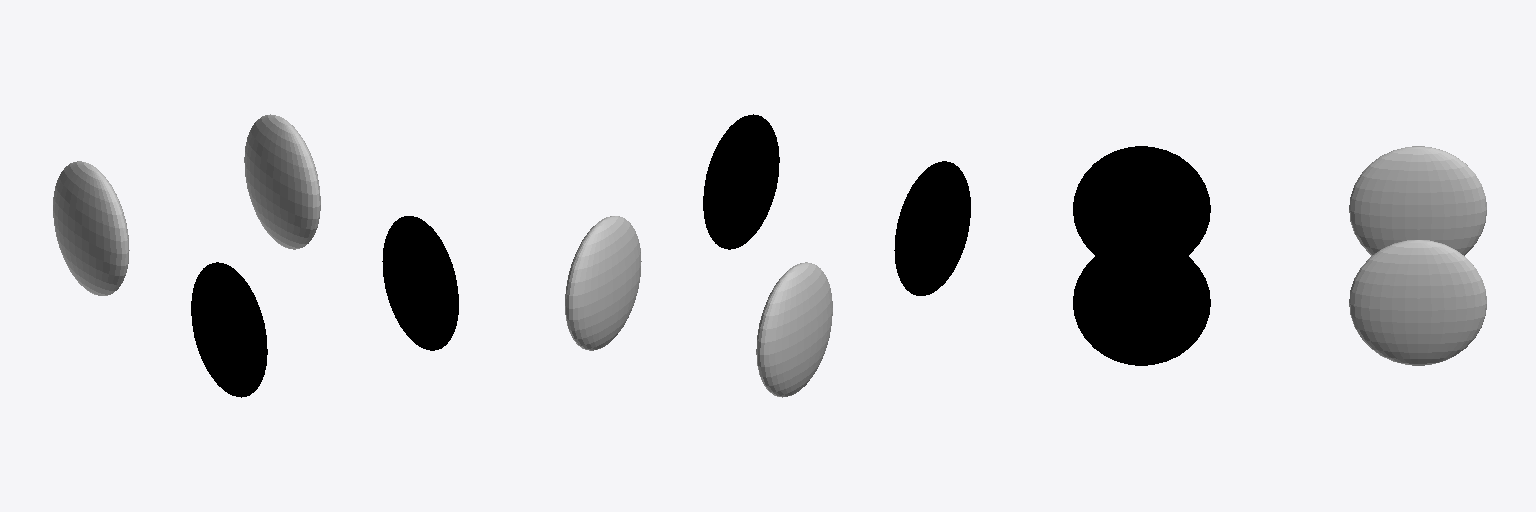
File: Robot3.obj
The picture shows the model from 3 angles: view 1: azimuth 30°, elevation 25°; view 2: azimuth 150°, elevation 25°; view 3: azimuth 270°, elevation 25°; orthographic projection.
Parts seen in each view (by area): view 1: 球.001, 球.004, 球.002, 球.003; view 2: 球.002, 球.003, 球.001, 球.004; view 3: 球.001, 球.002, 球.003, 球.004.
Part boxes in pixels (bbox=[...]): 球.001: bbox=[382, 216, 458, 350]; 球.004: bbox=[53, 161, 129, 295]; 球.002: bbox=[244, 114, 320, 249]; 球.003: bbox=[191, 262, 267, 397]; 球.002: bbox=[565, 216, 641, 350]; 球.003: bbox=[894, 161, 970, 295]; 球.001: bbox=[703, 114, 779, 249]; 球.004: bbox=[756, 262, 832, 397]; 球.001: bbox=[1073, 240, 1210, 365]; 球.002: bbox=[1349, 240, 1486, 365]; 球.003: bbox=[1073, 146, 1210, 255]; 球.004: bbox=[1349, 146, 1486, 255].
Size of the model in its own units: 0.94 by 0.5 by 1.5.